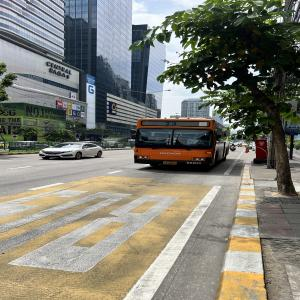BMTA-bus: (133, 117, 229, 171)
Bus Line Number: (162, 120, 180, 127)
Bus Side Number: (185, 161, 202, 165)
Destination Sign: (188, 139, 204, 145)
